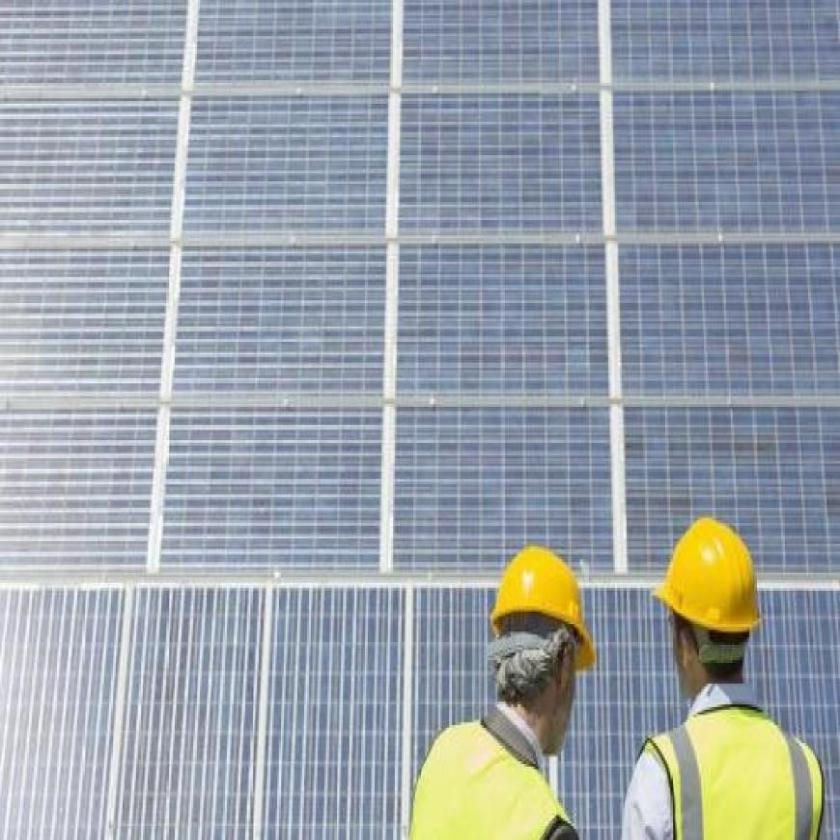Con_casco: (488, 534, 596, 786), (651, 499, 765, 723)
